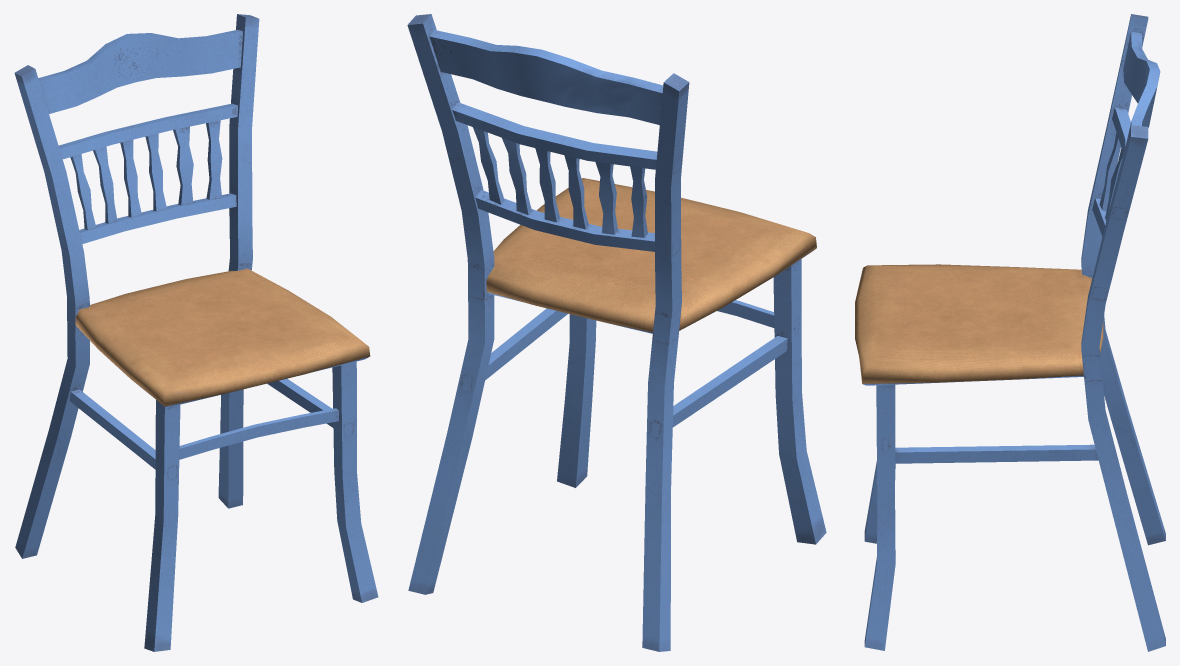
The model's file is blue_chair.glb.
3 views of the same model, side by side, from view 1: azimuth 30°, elevation 25°; view 2: azimuth 150°, elevation 25°; view 3: azimuth 270°, elevation 25° (orthographic). The views are drawn at different scales.
Parts seen in each view (by area): view 1: Cube.005; view 2: Cube.005; view 3: Cube.005.
Boxes of the visible parts, x1,y1,x2,y2 form: Cube.005: [14, 14, 378, 651]; Cube.005: [407, 14, 826, 651]; Cube.005: [855, 14, 1165, 651].
Bounding box in the file's own units: 0.0809 × 0.1614 × 0.0865.
Materials: 1 (1 with a texture image).
